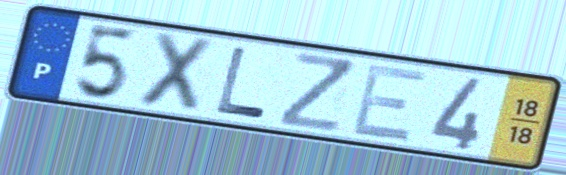4: (425, 74, 485, 152)
5: (71, 21, 144, 102)
E: (347, 62, 432, 145)
L: (212, 44, 269, 122)
X: (132, 28, 220, 118)
Z: (276, 50, 358, 136)
